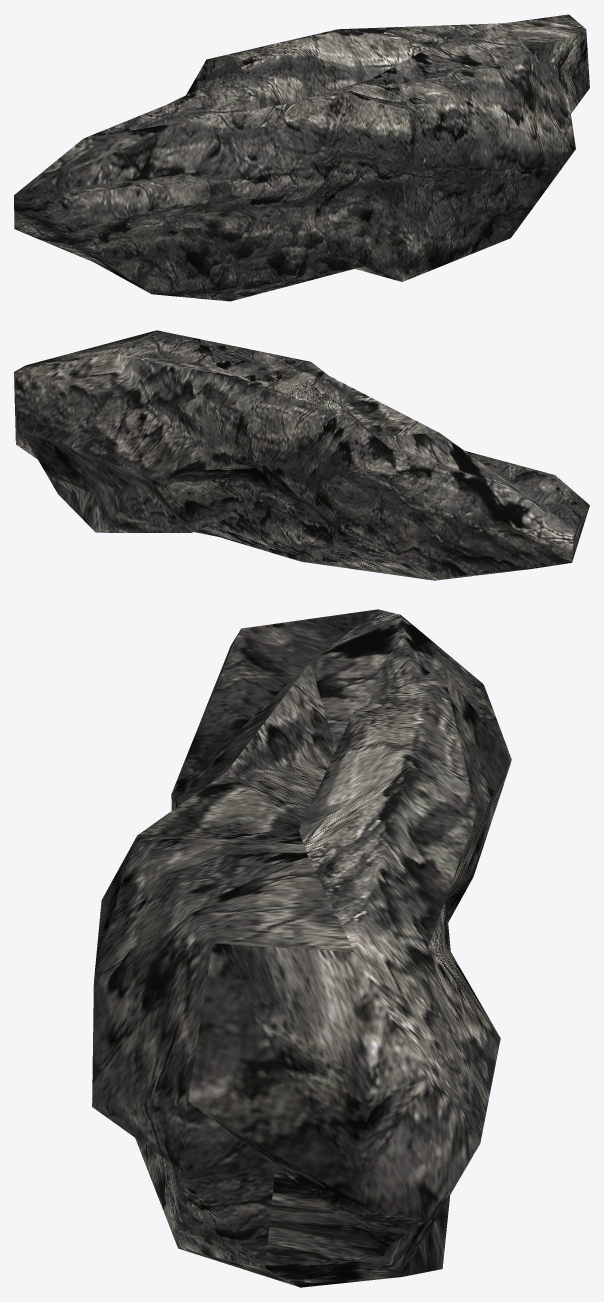
Rendered from Map0001f_Aerolite07.fbx.
3 views of the same model, one above another, from view 1: azimuth 30°, elevation 25°; view 2: azimuth 150°, elevation 25°; view 3: azimuth 270°, elevation 25° (orthographic). The views are drawn at different scales.
Parts seen in each view (by area): view 1: Map0001f_Aerolite07; view 2: Map0001f_Aerolite07; view 3: Map0001f_Aerolite07.
Part boxes in pixels (x1,y1,x2,y2): Map0001f_Aerolite07: (14, 14, 589, 301); Map0001f_Aerolite07: (14, 330, 589, 580); Map0001f_Aerolite07: (92, 609, 511, 1287).
Bounding box in the file's own units: 2489 × 864 × 821.
